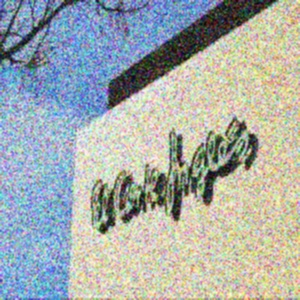corte_ingles: (39, 133, 300, 232)
